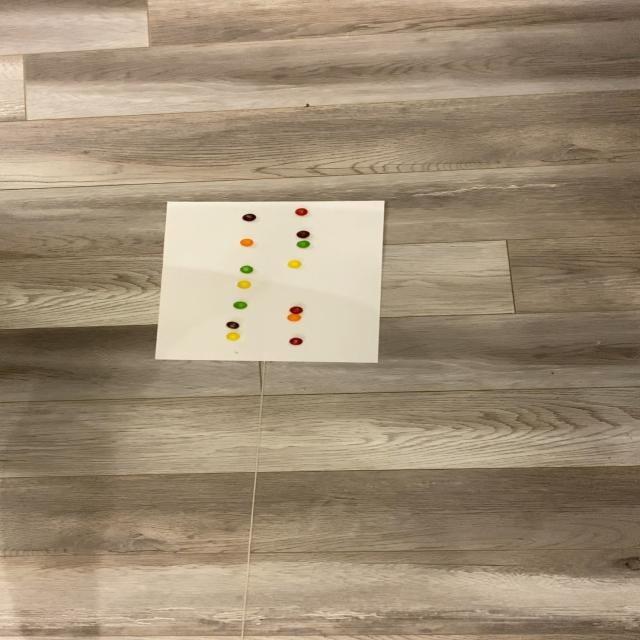smartie: (232, 301, 247, 310), (286, 260, 301, 269), (225, 320, 239, 329), (289, 307, 303, 316), (239, 265, 253, 274), (236, 281, 250, 290), (225, 332, 239, 341), (242, 213, 256, 221), (286, 315, 300, 323), (294, 208, 308, 216), (295, 241, 310, 248), (289, 337, 302, 345), (296, 231, 310, 238), (239, 239, 253, 246)
